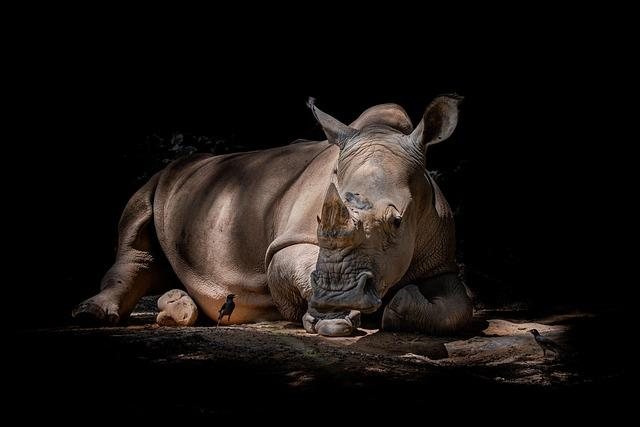Non_Gorille: (51, 62, 549, 374)
